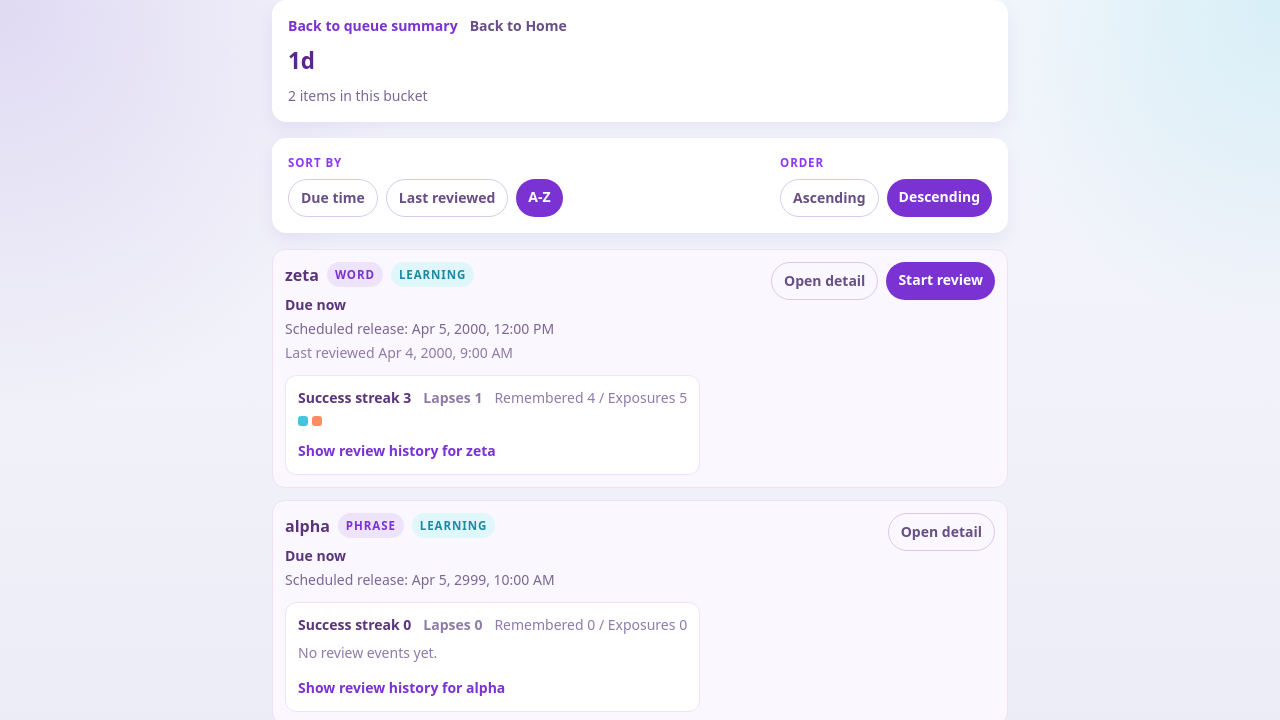
Test: ReviewQueueBucketPage › renders learner bucket detail rows and only exposes start review for due items
Expected: the heading "1d" is shown, top-left (288, 45), bottom-right (315, 76)
Expected: the text "2 items in this bucket" is shown, top-left (288, 86), bottom-right (428, 105)
Click the button "Show review history for zeta": (397, 451) top-left (298, 441), bottom-right (496, 461)
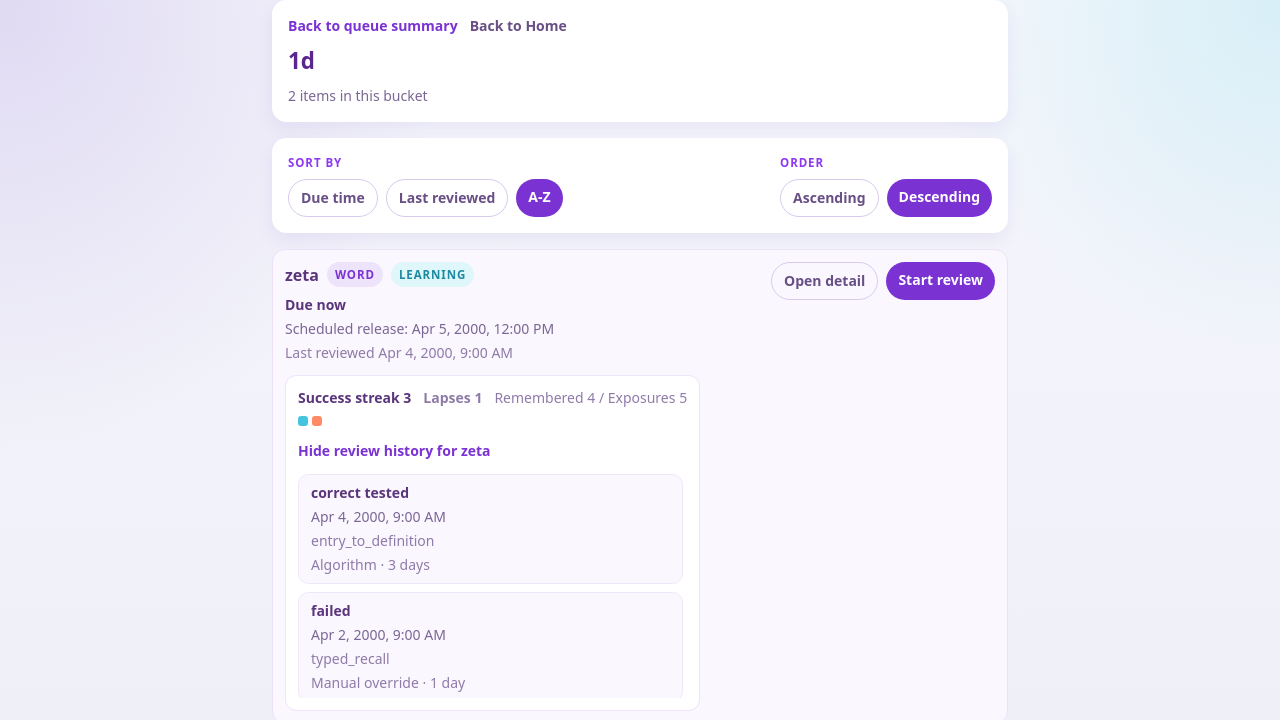
Expected: the text "entry_to_definition" is shown, top-left (311, 531), bottom-right (434, 550)
Expected: the text "Manual override · 1 day" is shown, top-left (311, 673), bottom-right (465, 692)
